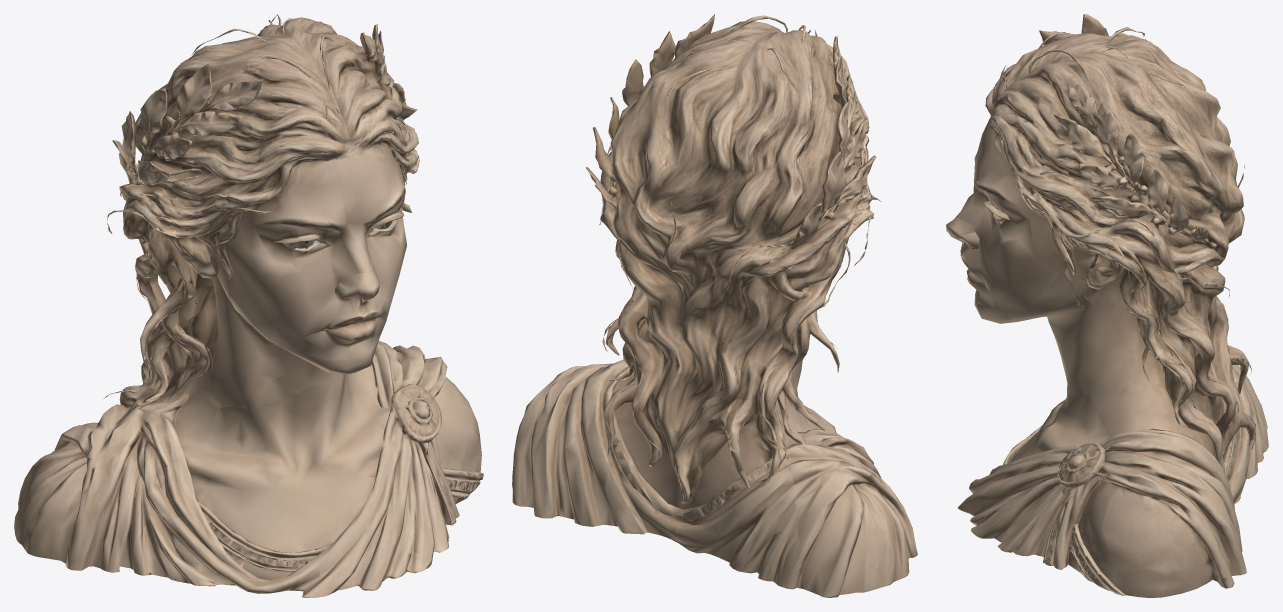
Rendered from atenea-movil.glb.
3 views of the same model, side by side, from view 1: azimuth 30°, elevation 25°; view 2: azimuth 150°, elevation 25°; view 3: azimuth 270°, elevation 25° (orthographic). The views are drawn at different scales.
Size of the model in its own units: 0.8645 by 0.9818 by 0.6224.
1 material, 1 textured.
